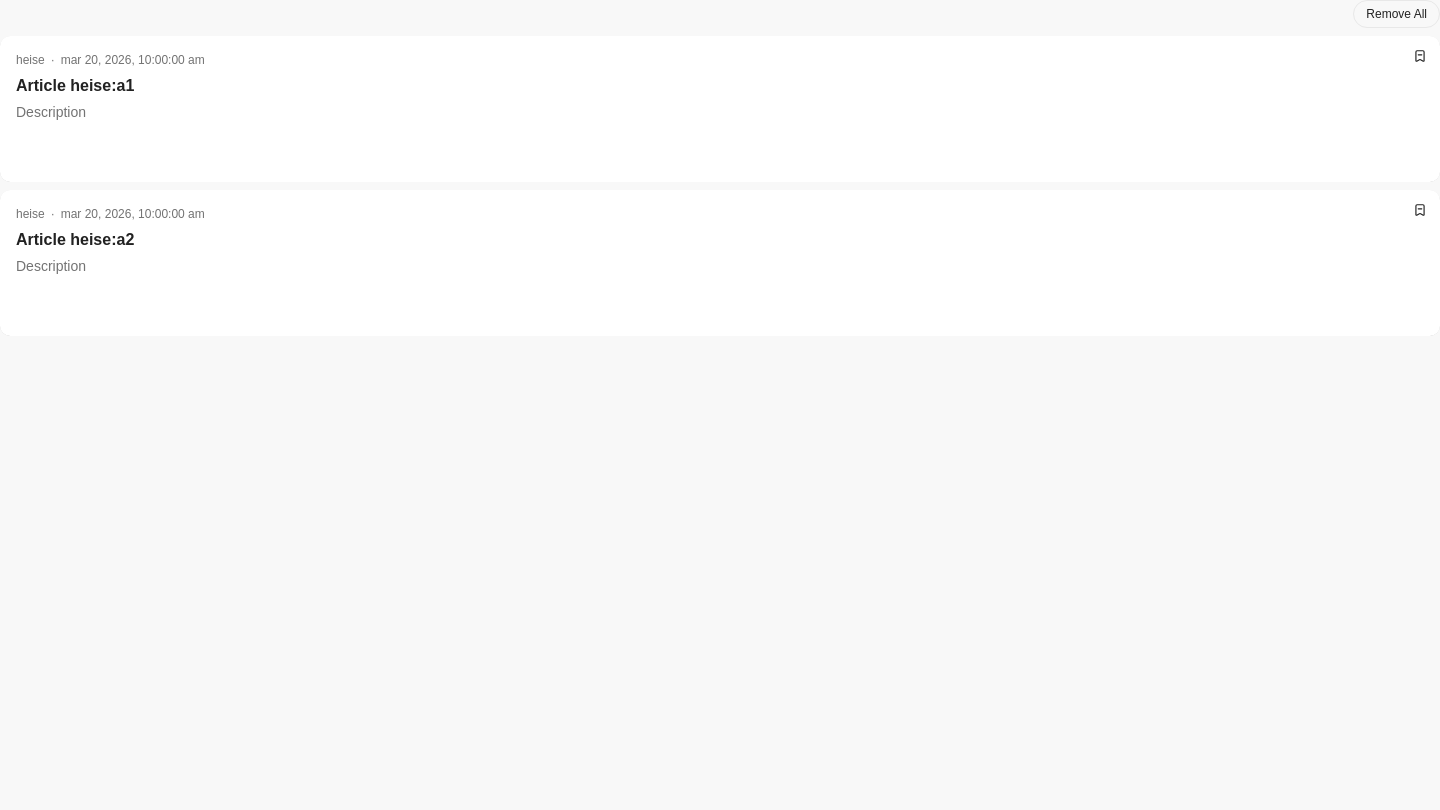
Test case: ReadListPage › Remove All › opens confirmation dialog when Remove All is clicked
The image size is (1440, 810).
Click the button "Remove All" at (1397, 14), box [1353,0,1439,28]
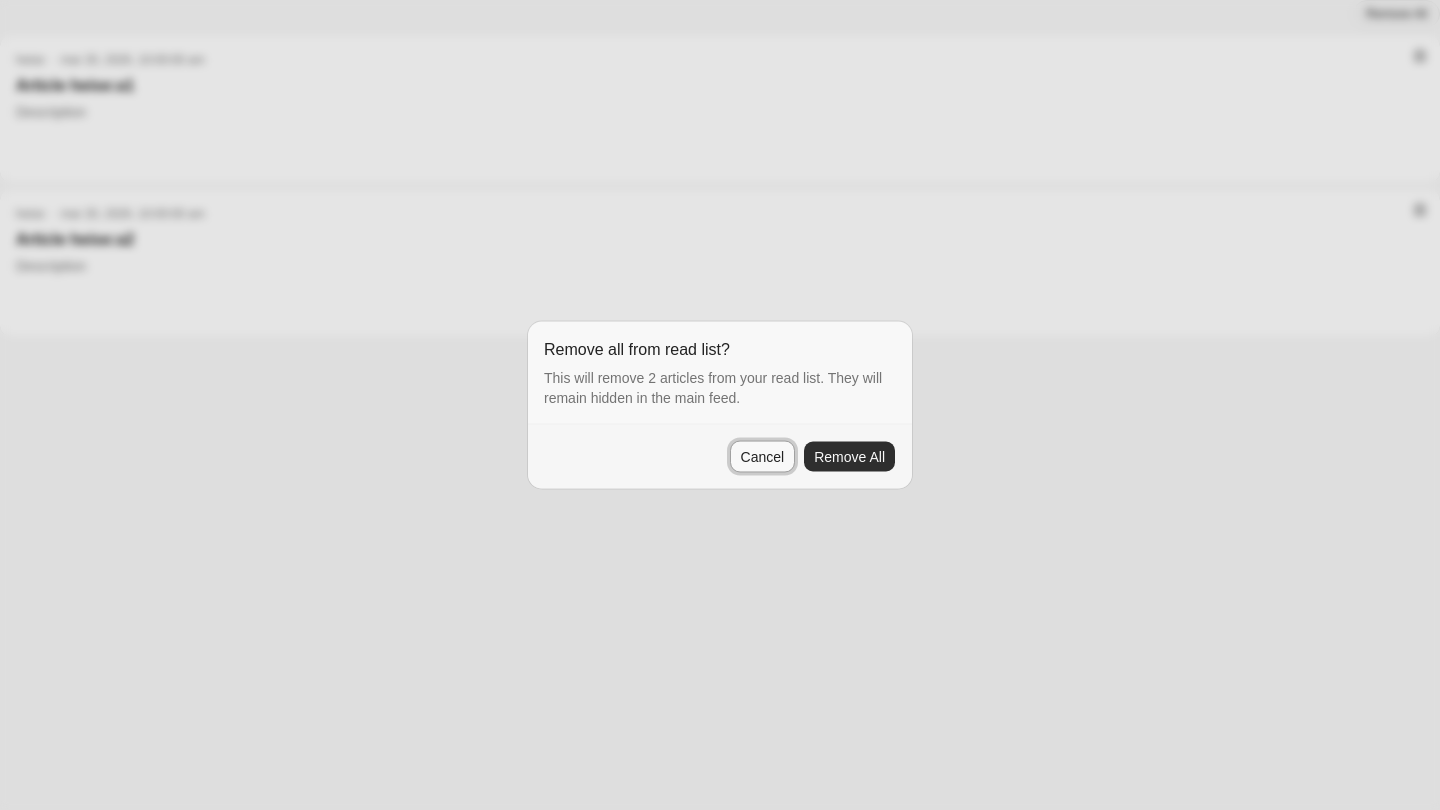
Expected: the heading "Remove all from read list?" is shown, [544,338,730,362]
Expected: the text "This will remove 2 articles" is shown, [544,370,882,406]
